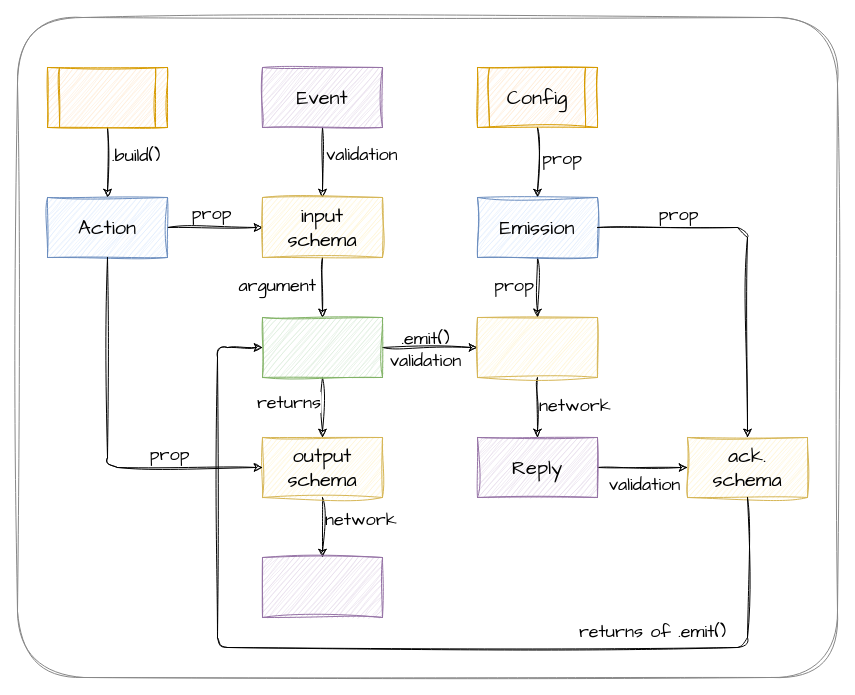
The diagram is 855 pixels wide and 695 high, and some of its shapes have lost their labels. Here are the shapes that lost their labels. From the top down, the box of each, then its label:
(46, 66, 168, 128): Factory
(262, 316, 382, 378): handler
(476, 316, 598, 378): payload schema
(262, 556, 382, 618): Ack.
